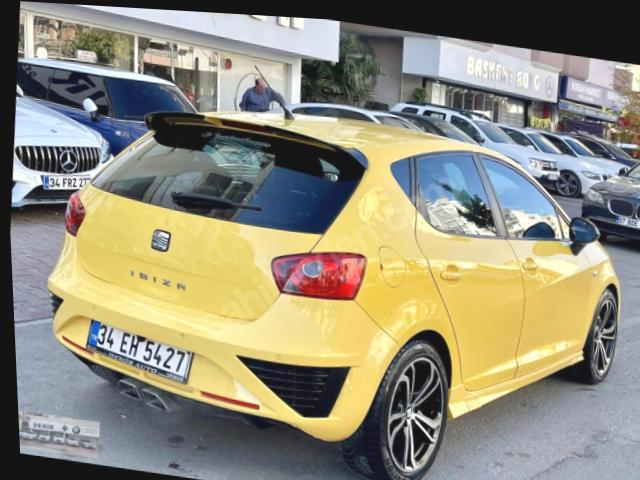plaka: (86, 320, 192, 382), (42, 176, 89, 189)
